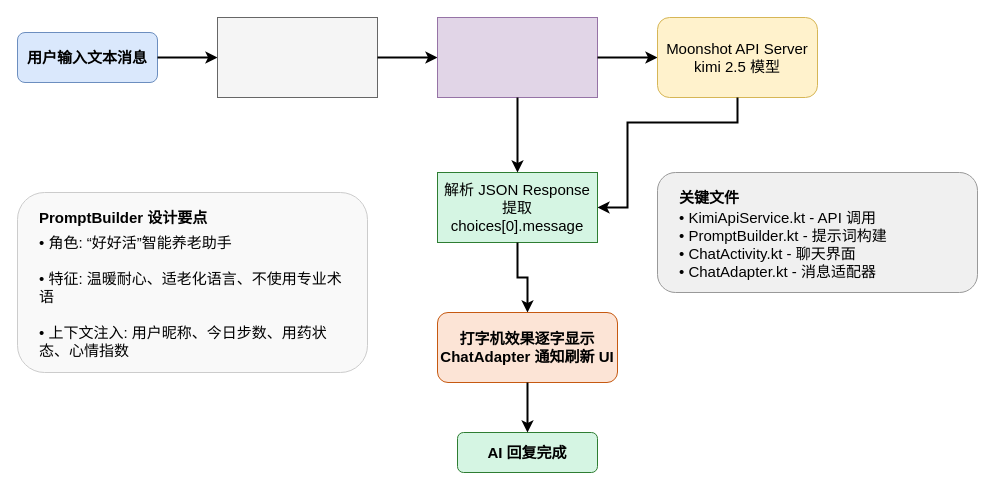
This 995x490 diagram has some shape labels left out. Each missing label, with the box of its shape:
KimiApiService POST /v1/chat/completions: (436, 16, 598, 98)
PromptBuilder 构建 System Prompt 注入用户人设和上下文: (216, 16, 378, 98)
